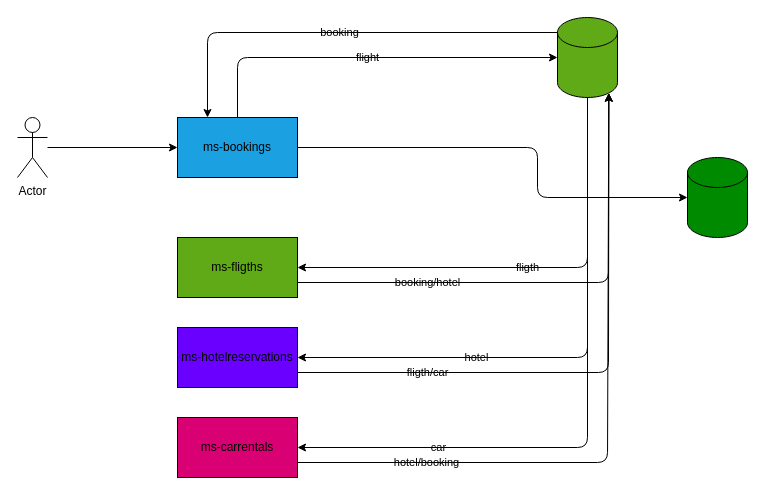
Image size: 765x495. Some labels were removed from this diagram. The shapes that lost their labels are listed below. From the top down, each one's centre as x and y in pixels, then its label:
point (587, 57): Kafka
point (717, 197): db
